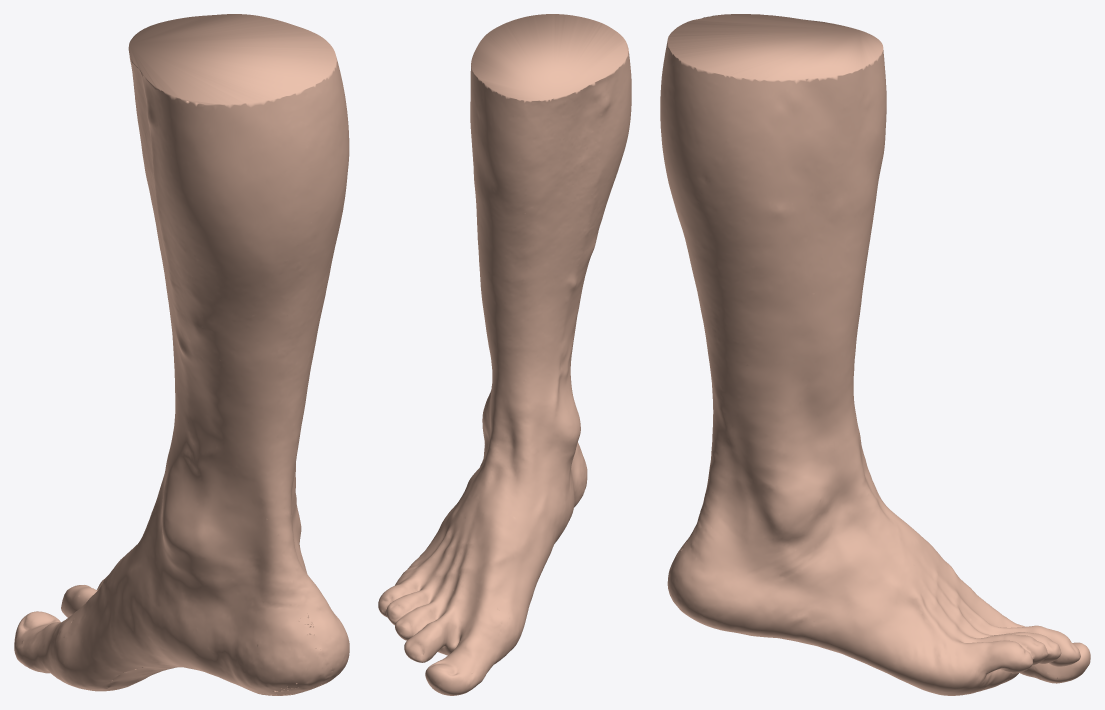
File: Foot_Short_Right.fbx
3 renders of one model, left to right at view 1: azimuth 30°, elevation 25°; view 2: azimuth 150°, elevation 25°; view 3: azimuth 270°, elevation 25°, orthographic. The views are drawn at different scales.
Visible parts, largest first — view 1: Foot_short_right; view 2: Foot_short_right; view 3: Foot_short_right.
Part boxes in pixels (x1,y1,x2,y2): Foot_short_right: [14, 14, 349, 695]; Foot_short_right: [378, 14, 631, 695]; Foot_short_right: [660, 14, 1090, 695].
Size of the model in its own units: 300 by 675 by 1130.
